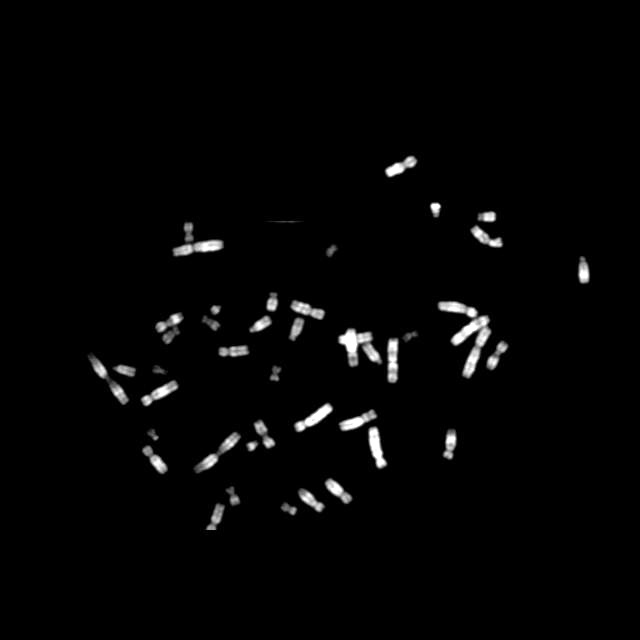chromosome: (194, 431, 240, 474), (90, 354, 128, 404), (462, 326, 490, 378), (450, 316, 490, 346), (294, 402, 332, 432), (140, 380, 180, 406), (173, 241, 223, 257), (340, 409, 376, 431), (471, 225, 504, 247), (369, 428, 387, 468), (326, 478, 352, 504), (143, 445, 167, 473), (386, 155, 416, 177), (292, 300, 324, 320), (487, 341, 508, 371), (439, 302, 477, 318), (300, 488, 324, 512), (256, 420, 274, 448), (156, 313, 182, 332), (346, 329, 358, 367), (388, 339, 398, 383), (442, 430, 456, 460), (207, 504, 223, 530), (339, 332, 373, 344), (363, 342, 382, 363), (250, 316, 270, 334), (578, 256, 590, 284), (290, 318, 304, 342), (162, 328, 180, 344), (220, 346, 248, 356), (114, 364, 136, 376), (203, 317, 221, 331), (228, 488, 240, 506), (266, 292, 278, 310), (281, 503, 297, 515), (478, 212, 497, 222), (184, 224, 193, 242), (270, 366, 280, 382), (430, 204, 440, 218), (404, 332, 418, 342), (147, 430, 159, 440), (326, 245, 336, 257), (247, 441, 257, 451), (211, 305, 221, 315), (153, 366, 165, 374)
